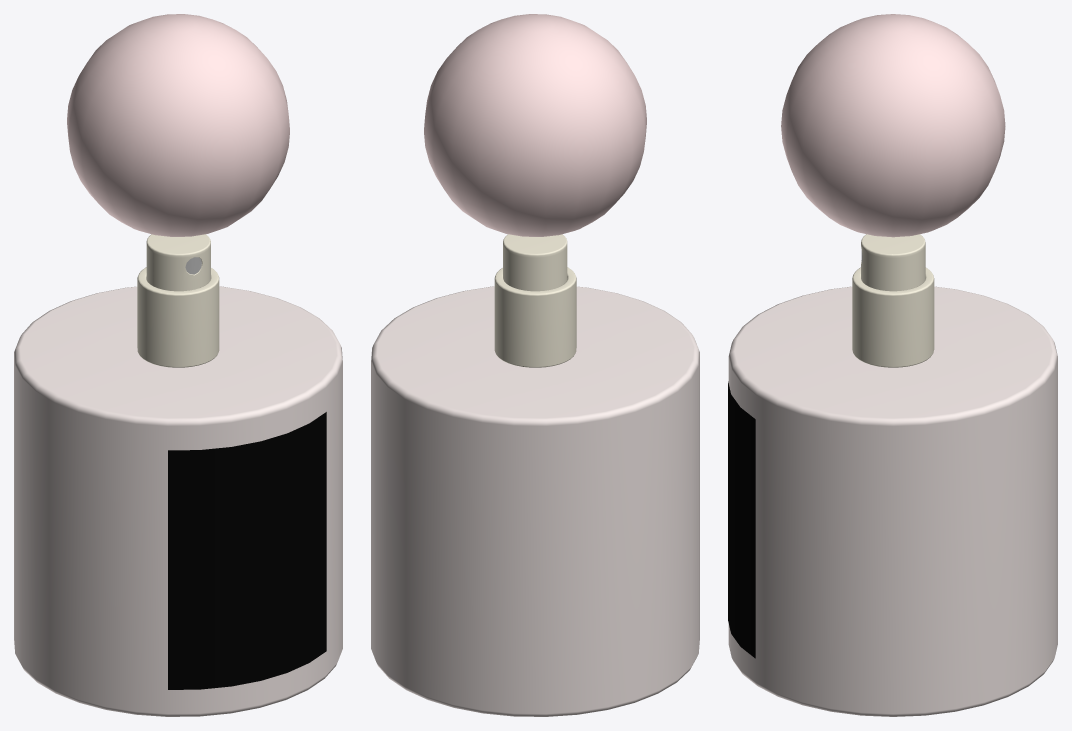
3 views of the same model, side by side, from view 1: azimuth 30°, elevation 25°; view 2: azimuth 150°, elevation 25°; view 3: azimuth 270°, elevation 25° (orthographic).
Bounding box in the file's own units: 4.45 × 9.34 × 4.46.
